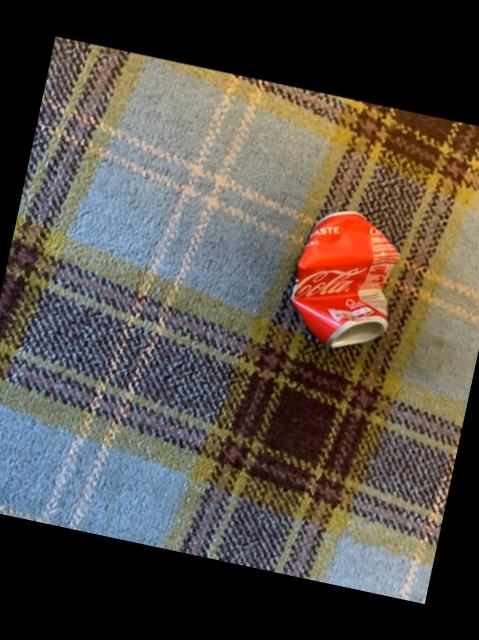metal: (288, 211, 395, 347)
